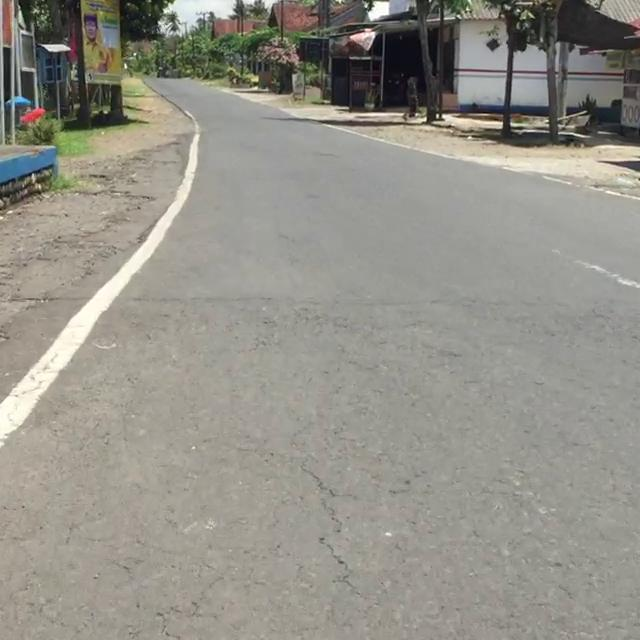retak_kulit_buaya: (297, 447, 373, 606)
